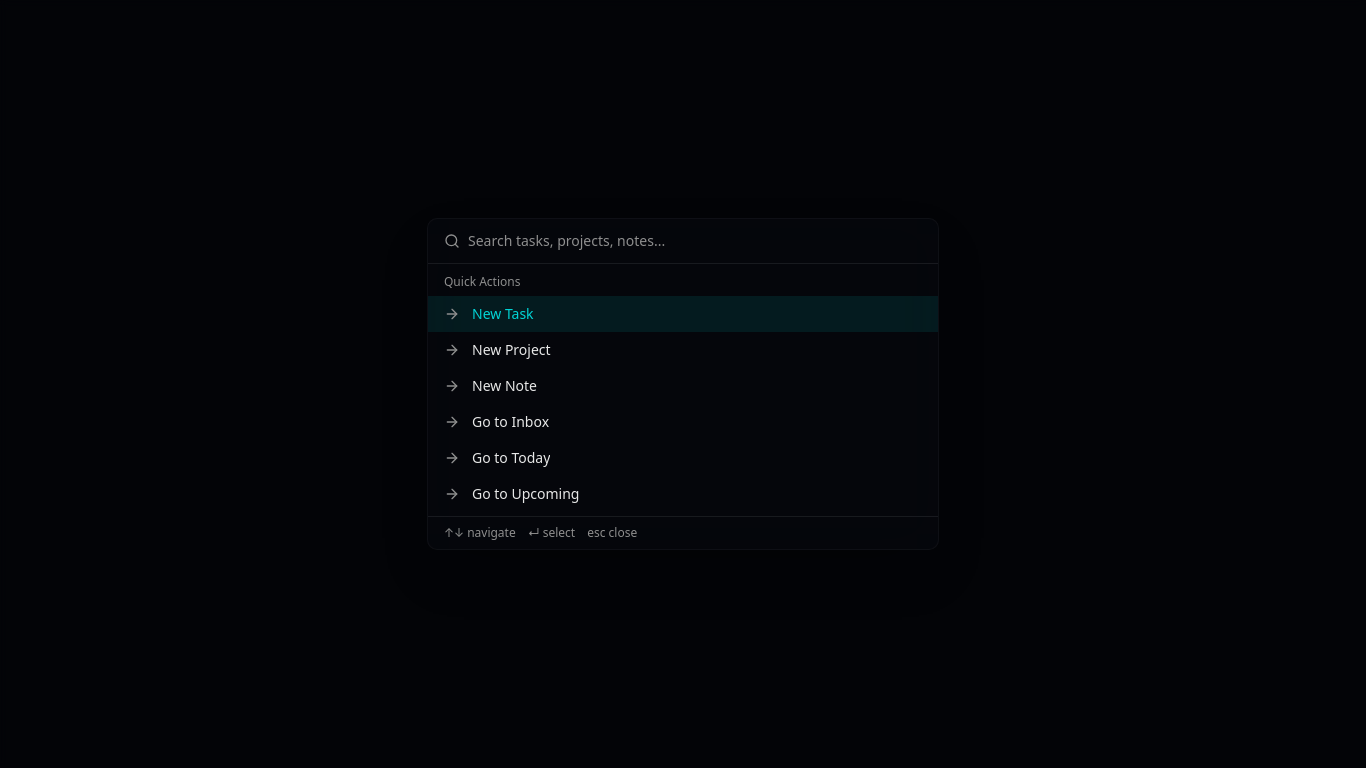
it: CommandPalette › typing in search filters tasks by title
Type "Buy" into the field with placeholder "Search tasks, projects, notes...".
click(695, 241); type("Buy")  # box x1=468 y1=231 x2=922 y2=251
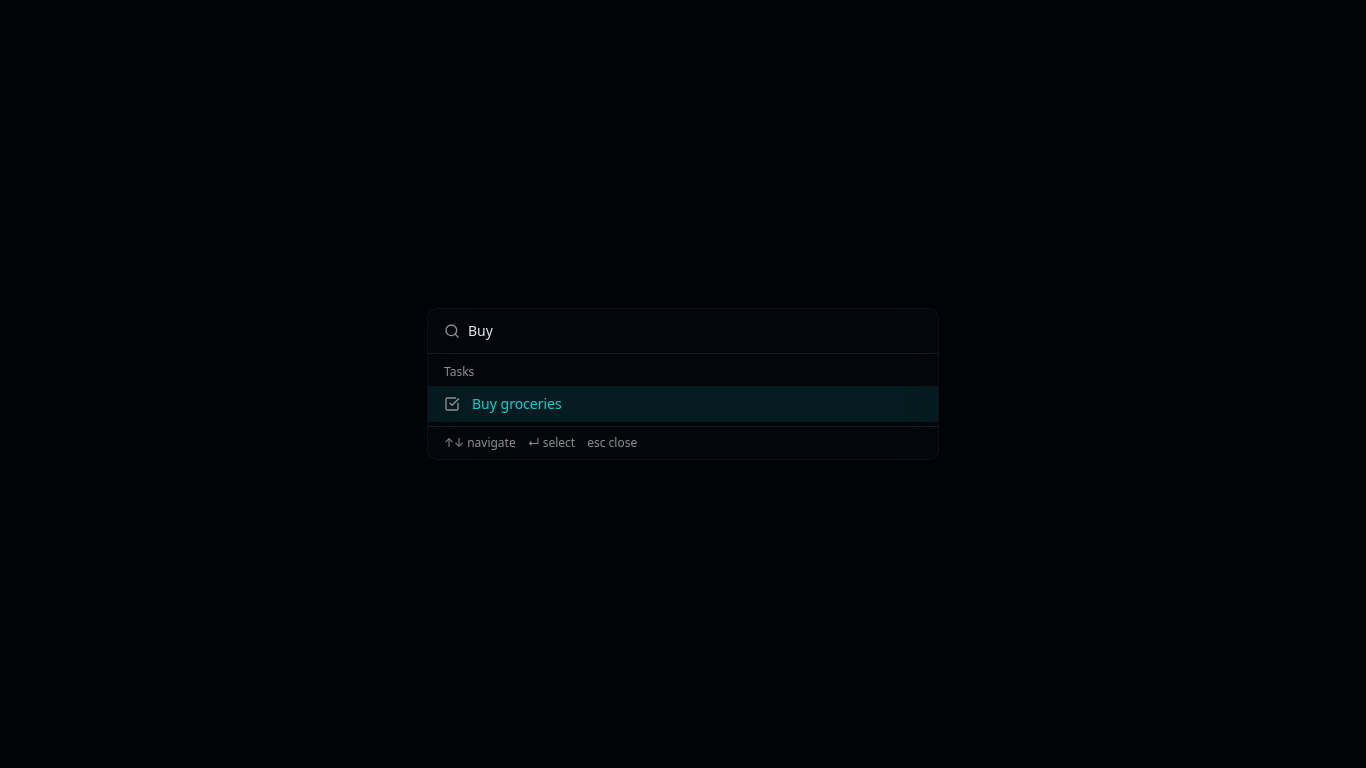
Result: the text "Buy groceries" is shown at x1=472 y1=394 x2=562 y2=414
